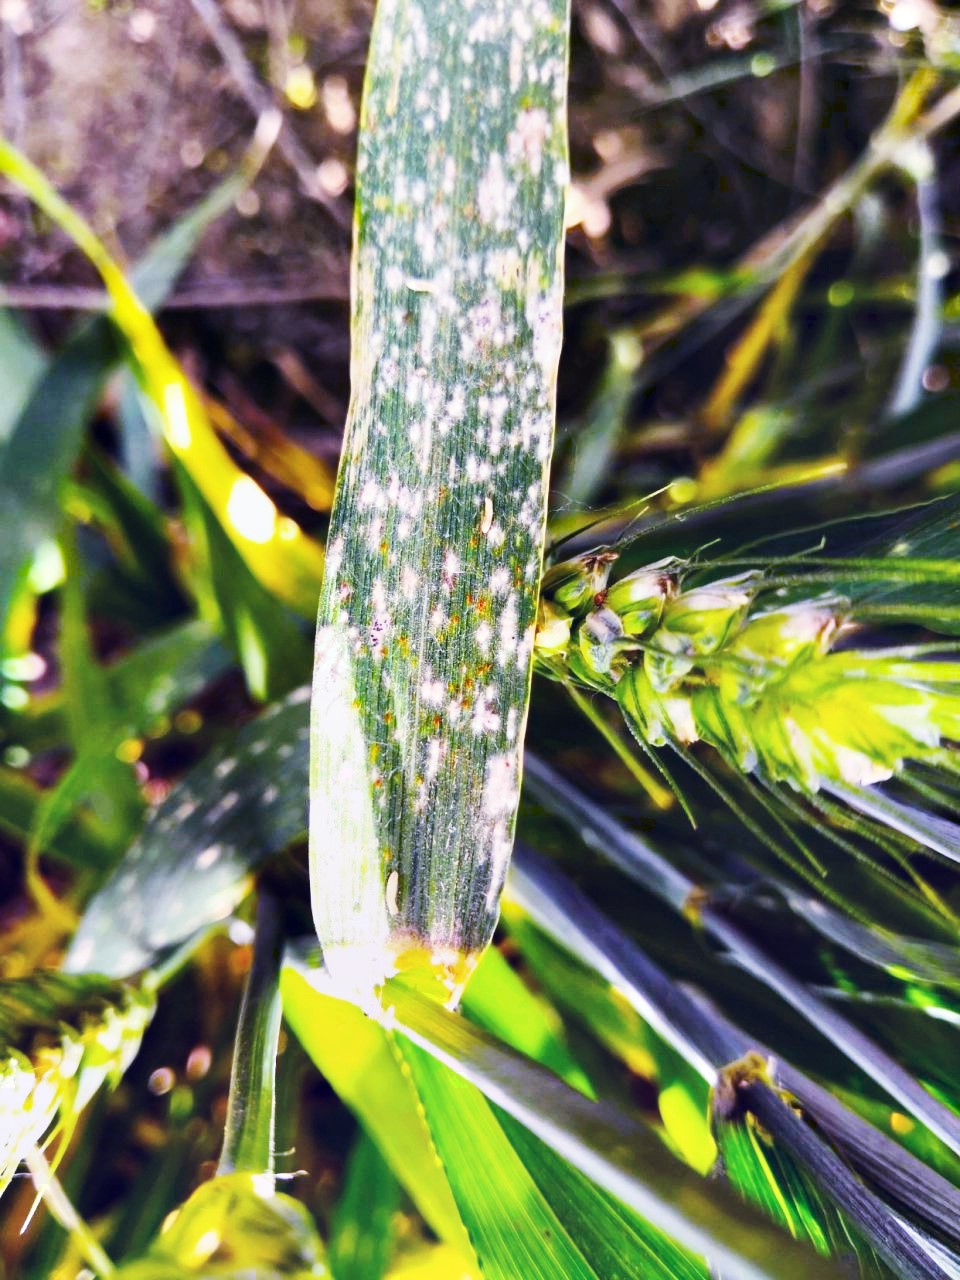Powdery Mildew: (323, 3, 577, 806)
